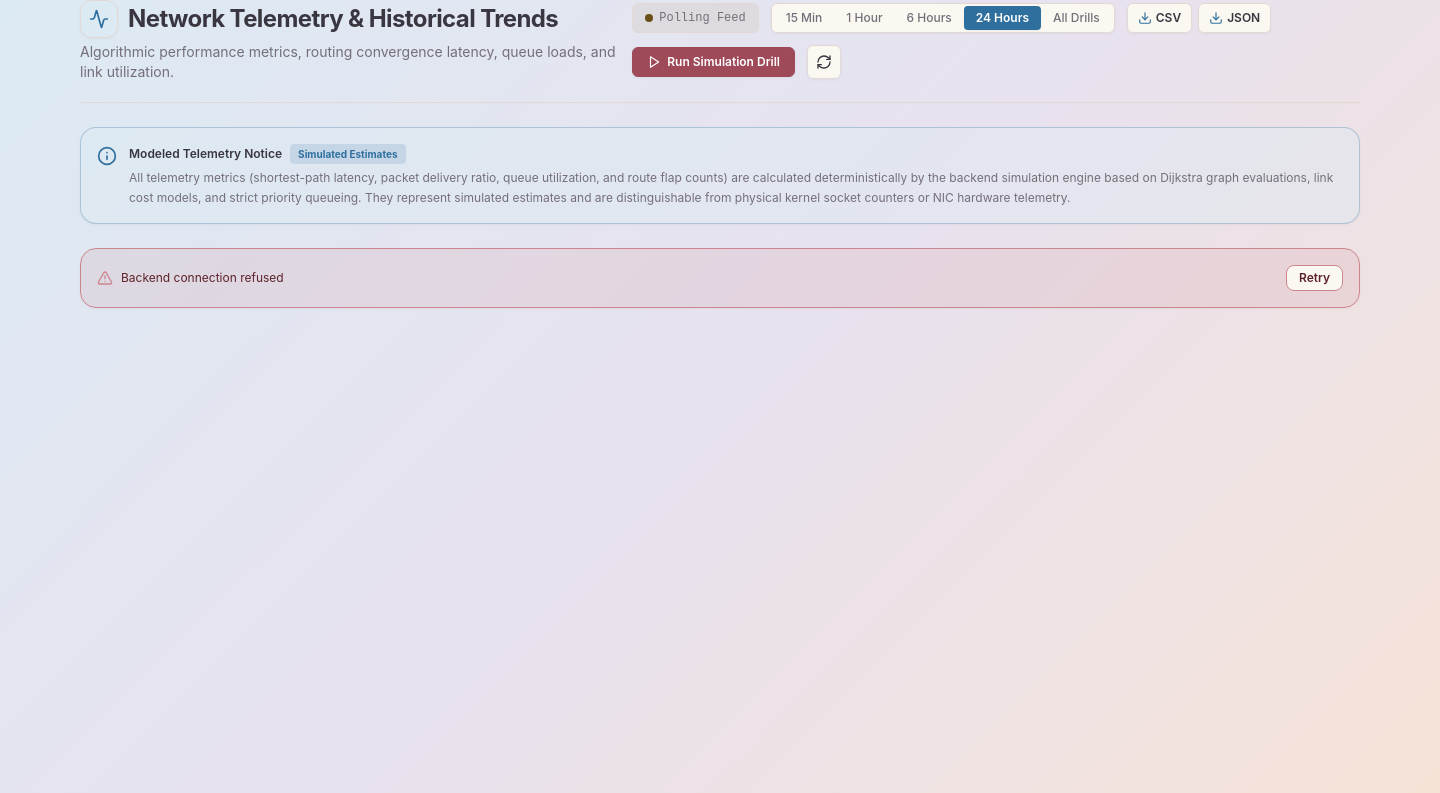
Scenario: TelemetryPage › handles API error state gracefully with retry capability
expect the text "Backend connection refused" is shown: met, box [121,270,284,286]
Click the button "Retry": (1314, 278) [1286,265,1343,291]
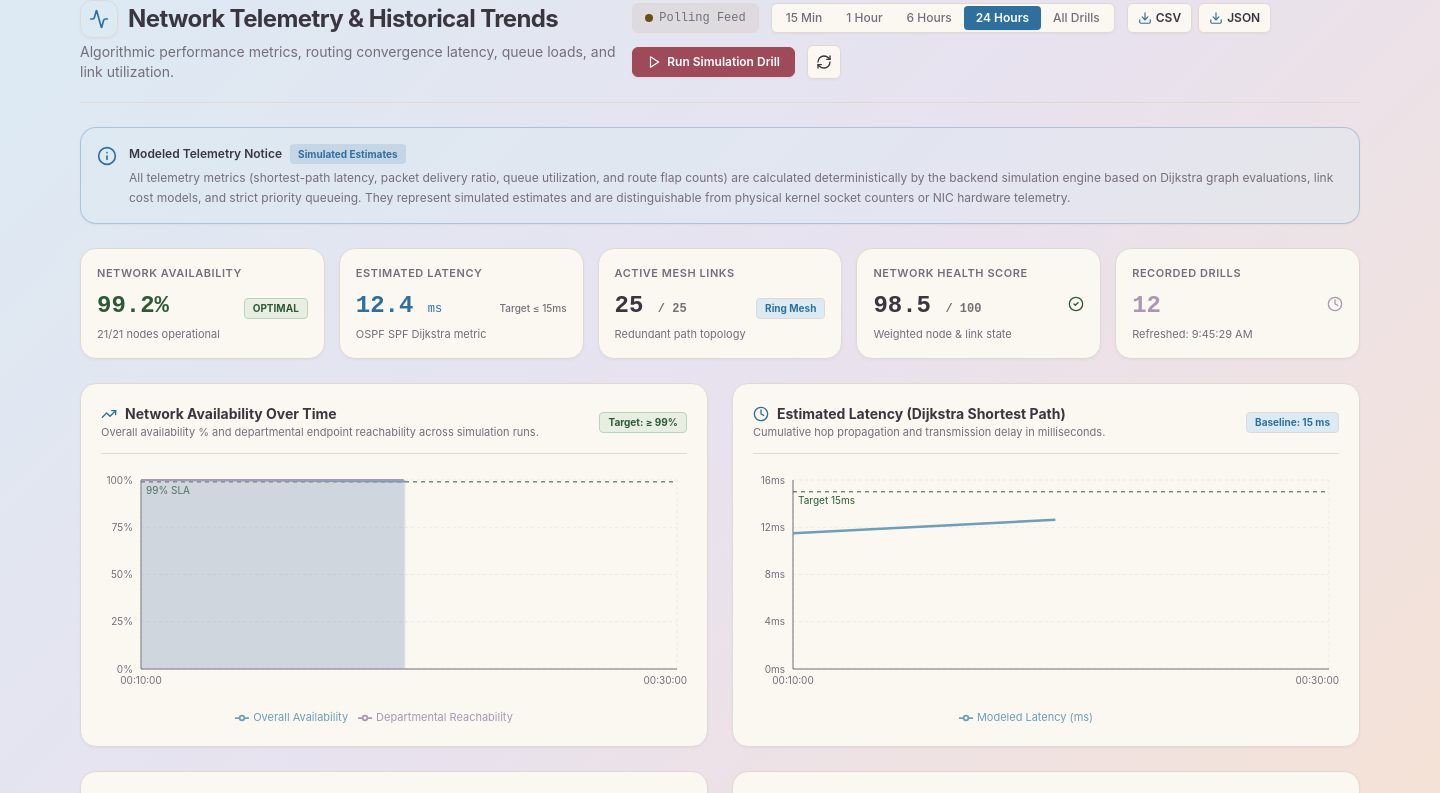
expect the text "99.2%" is shown: met, box [97,290,169,322]
